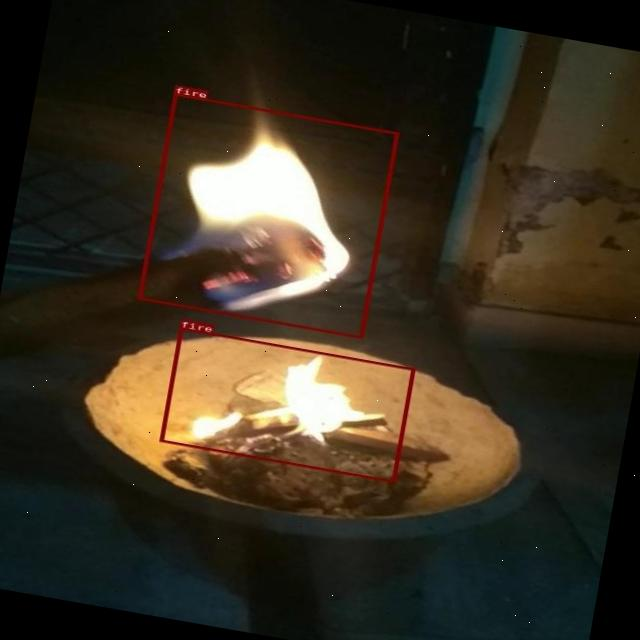fire: (137, 94, 398, 338), (158, 327, 414, 482)
